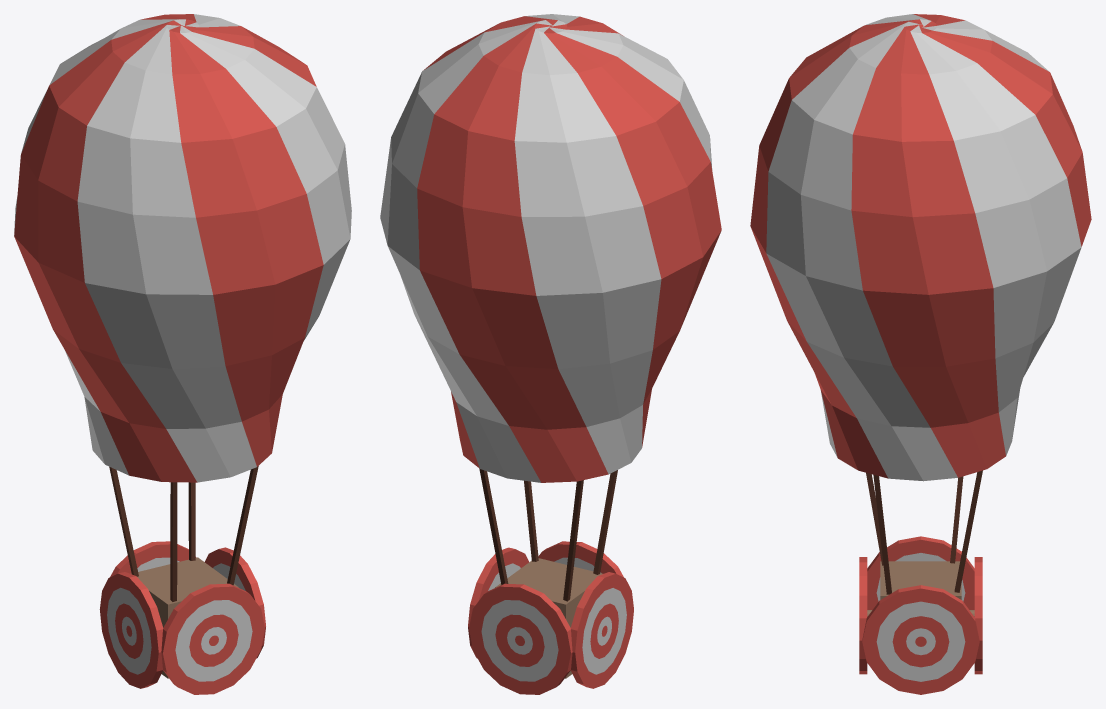
Rendered from balloon with target.fbx.
The picture shows the model from 3 angles, left to right: view 1: azimuth 30°, elevation 25°; view 2: azimuth 150°, elevation 25°; view 3: azimuth 270°, elevation 25°; orthographic projection.
Visible parts, largest first — view 1: Sphere, Circle, Sphere.001, Cube; view 2: Sphere, Circle, Sphere.001, Cube; view 3: Sphere, Circle, Sphere.001, Cube.
Boxes of the visible parts, x1=… form: Sphere: x1=14, y1=14, x2=351, y2=482; Circle: x1=99, y1=541, x2=265, y2=694; Sphere.001: x1=109, y1=466, x2=258, y2=601; Cube: x1=130, y1=557, x2=238, y2=678; Sphere: x1=380, y1=14, x2=721, y2=482; Circle: x1=468, y1=541, x2=633, y2=694; Sphere.001: x1=479, y1=468, x2=617, y2=601; Cube: x1=495, y1=558, x2=602, y2=678; Sphere: x1=750, y1=14, x2=1091, y2=481; Circle: x1=859, y1=536, x2=982, y2=694; Sphere.001: x1=866, y1=470, x2=982, y2=594; Cube: x1=880, y1=561, x2=961, y2=599.
Size of the model in its own units: 181 by 377 by 181.
